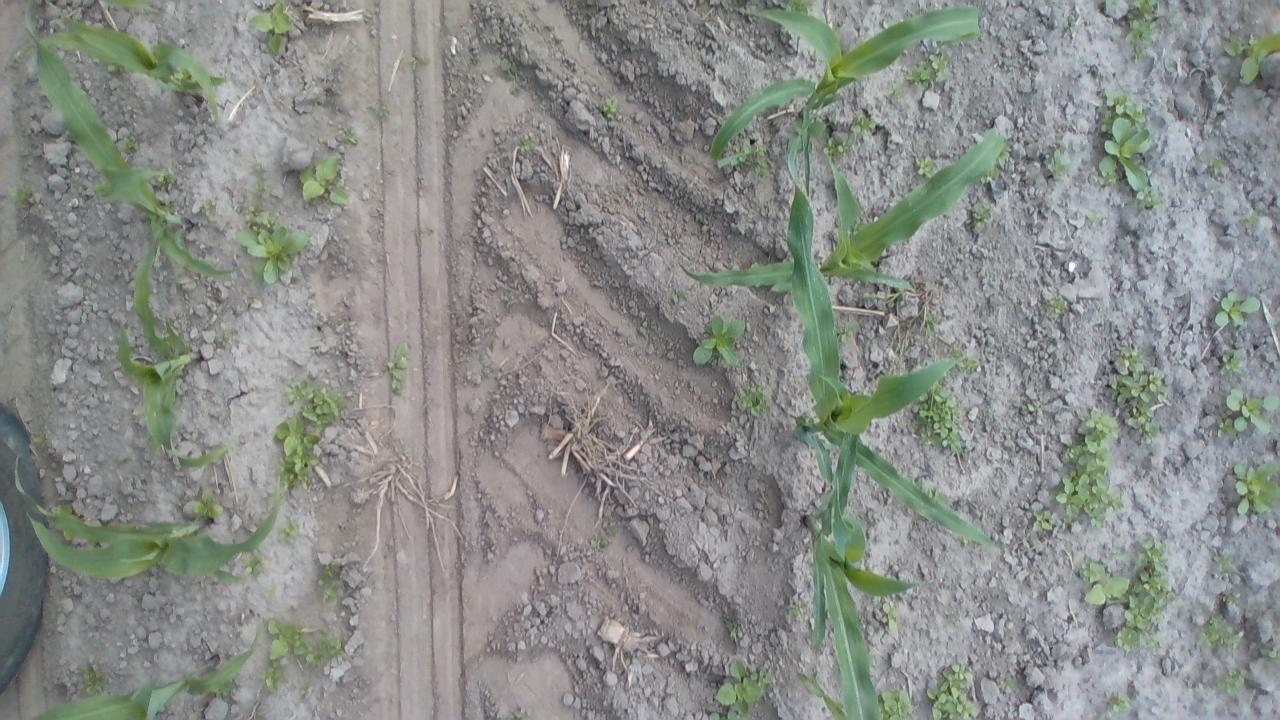Maize: (787, 104, 1001, 554), (22, 0, 238, 277), (676, 126, 1004, 294), (706, 0, 982, 166), (798, 430, 935, 720), (12, 451, 281, 587), (116, 228, 230, 466), (31, 618, 262, 720), (11, 14, 224, 120), (796, 670, 850, 720), (97, 0, 189, 14)
Weeds: (1049, 408, 1124, 528), (1109, 536, 1175, 652), (1110, 349, 1168, 442), (1098, 92, 1151, 190), (236, 226, 308, 284), (912, 380, 962, 455), (271, 414, 320, 490), (713, 660, 772, 714), (286, 380, 347, 432), (1224, 28, 1280, 84), (1217, 388, 1280, 437), (926, 663, 980, 720), (692, 316, 745, 368), (1233, 460, 1280, 516), (299, 155, 350, 204), (248, 3, 295, 54), (1123, 0, 1158, 63), (294, 629, 344, 668), (1194, 613, 1242, 651), (1214, 290, 1260, 329), (905, 52, 948, 90), (266, 616, 300, 660), (1084, 575, 1130, 605), (788, 118, 827, 153), (876, 689, 914, 720), (386, 342, 409, 393), (736, 385, 770, 418), (318, 562, 344, 604), (947, 344, 979, 378), (1044, 146, 1072, 182), (78, 664, 108, 696), (191, 489, 224, 518), (243, 204, 279, 230), (912, 478, 948, 504), (260, 661, 287, 694), (823, 137, 855, 163), (1218, 668, 1247, 696), (750, 144, 770, 181), (1076, 556, 1104, 582), (1218, 350, 1244, 376), (970, 201, 992, 231), (6, 186, 34, 209), (848, 115, 876, 138), (1136, 187, 1164, 209), (836, 321, 860, 345), (278, 518, 300, 543), (784, 0, 816, 16), (242, 553, 264, 576), (882, 602, 898, 632), (1212, 553, 1236, 573), (1030, 510, 1052, 531), (155, 166, 176, 188), (729, 144, 750, 166), (1048, 295, 1068, 318), (994, 144, 1013, 168), (914, 156, 934, 178), (1108, 694, 1132, 712), (338, 124, 358, 145), (977, 167, 1001, 184), (724, 612, 737, 642), (888, 334, 904, 357), (708, 711, 748, 720), (600, 97, 620, 115), (923, 314, 941, 333), (788, 603, 806, 622), (480, 353, 492, 381), (1262, 646, 1280, 664), (1208, 157, 1225, 174), (120, 135, 137, 152), (1000, 677, 1017, 693), (500, 58, 517, 74), (519, 138, 538, 152), (160, 198, 176, 214), (1245, 210, 1259, 228), (406, 54, 427, 66), (853, 293, 884, 301), (889, 82, 906, 96), (590, 539, 608, 552), (250, 180, 264, 196), (261, 586, 275, 600), (218, 330, 230, 346), (671, 289, 686, 301), (107, 61, 123, 72), (204, 199, 214, 216), (958, 535, 972, 547), (33, 434, 47, 446), (1223, 593, 1237, 604), (260, 490, 274, 500), (514, 710, 528, 720), (1026, 402, 1038, 413), (604, 527, 616, 538), (254, 162, 266, 172), (1097, 0, 1119, 5), (1086, 212, 1096, 222), (213, 688, 223, 698), (300, 684, 308, 696), (749, 262, 762, 268)
